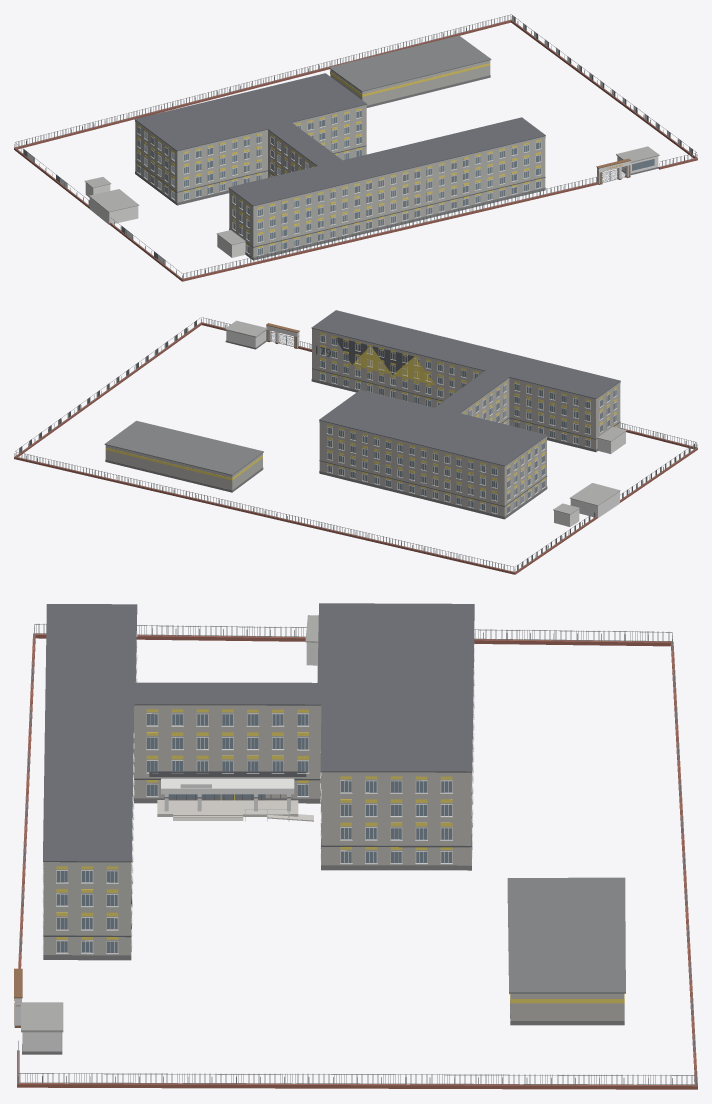
The picture shows the model from 3 angles, top to bottom: view 1: azimuth 30°, elevation 25°; view 2: azimuth 150°, elevation 25°; view 3: azimuth 270°, elevation 25°; orthographic projection. The views are drawn at different scales.
Parts seen in each view (by area): view 1: Maktab_devor, Maktab_parapet_qopqoq, Maktab_romlar, Maktab_oynalar, Panjara, Bir_qavatli_tom, Panjara_poydevor, Maktab_sariq_panellar, Bir_qavatli_bino, Maktab_parapet, Maktab_tsokol, Maktab_lentalar (+3 smaller); view 2: Maktab_devor, Maktab_parapet_qopqoq, Maktab_romlar, Maktab_oynalar, Bir_qavatli_tom, Panjara, Panjara_poydevor, Maktab_sariq_panellar, Bir_qavatli_bino, Maktab_parapet, Maktab_tsokol, Grafika_sariq (+8 smaller); view 3: Maktab_parapet_qopqoq, Maktab_devor, Bir_qavatli_tom, Panjara_poydevor, Panjara, Maktab_oynalar, Maktab_romlar, Maktab_sariq_panellar, Bir_qavatli_bino, Maktab_parapet, Kirish_maydoncha, Maktab_tsokol (+5 smaller).
Boxes of the visible parts, <box> form: Maktab_devor: <box>135,107,545,257</box>; Maktab_parapet_qopqoq: <box>134,73,545,206</box>; Maktab_romlar: <box>137,110,541,255</box>; Maktab_oynalar: <box>137,111,540,255</box>; Panjara: <box>14,14,697,279</box>; Bir_qavatli_tom: <box>329,35,491,91</box>; Panjara_poydevor: <box>14,20,697,281</box>; Maktab_sariq_panellar: <box>137,108,541,247</box>; Bir_qavatli_bino: <box>330,60,490,105</box>; Maktab_parapet: <box>135,105,545,208</box>; Maktab_tsokol: <box>135,171,545,260</box>; Maktab_lentalar: <box>135,145,545,247</box>; Maktab_devor: <box>312,330,620,516</box>; Maktab_parapet_qopqoq: <box>311,310,620,466</box>; Maktab_romlar: <box>319,335,616,514</box>; Maktab_oynalar: <box>320,335,616,513</box>; Bir_qavatli_tom: <box>104,420,263,475</box>; Panjara: <box>14,317,697,572</box>; Panjara_poydevor: <box>14,322,697,574</box>; Maktab_sariq_panellar: <box>320,332,616,506</box>; Bir_qavatli_bino: <box>105,445,262,489</box>; Maktab_parapet: <box>312,328,620,468</box>; Maktab_tsokol: <box>311,379,597,519</box>; Grafika_sariq: <box>349,346,436,385</box>; Maktab_parapet_qopqoq: <box>43,603,474,862</box>; Maktab_devor: <box>43,709,471,955</box>; Bir_qavatli_tom: <box>507,877,625,993</box>; Panjara_poydevor: <box>17,633,697,1089</box>; Panjara: <box>18,624,696,1085</box>; Maktab_oynalar: <box>57,713,452,952</box>; Maktab_romlar: <box>42,631,474,954</box>; Maktab_sariq_panellar: <box>56,709,471,939</box>; Bir_qavatli_bino: <box>510,993,624,1020</box>; Maktab_parapet: <box>43,705,471,866</box>; Kirish_maydoncha: <box>157,800,298,816</box>; Maktab_tsokol: <box>43,730,473,960</box>.
Bounding box in the file's own units: 136 × 14.22 × 87.18.
